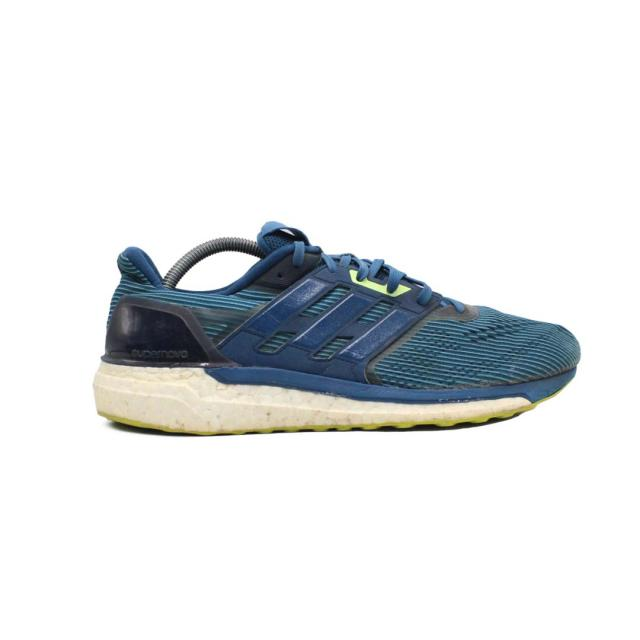heel: (92, 228, 138, 358)
midsole: (98, 361, 584, 435)
uppersole: (139, 241, 585, 379)
